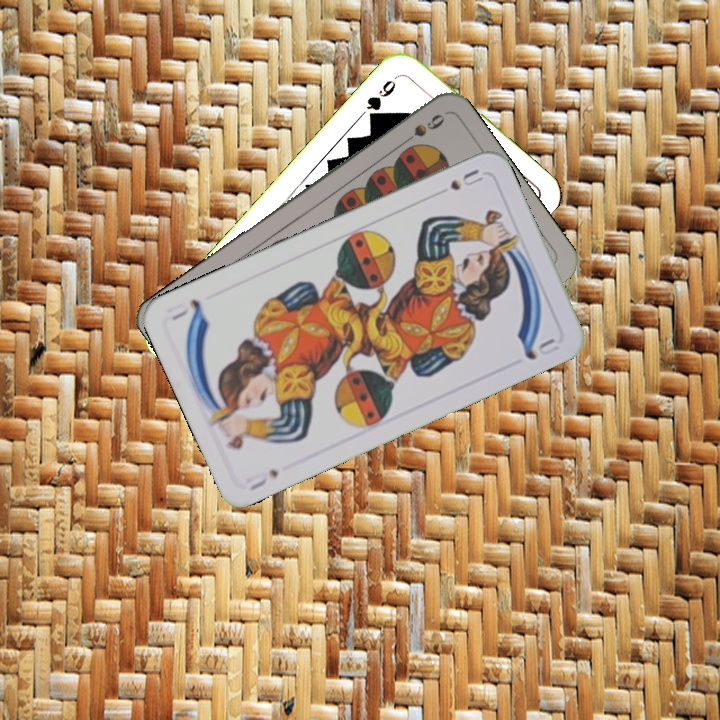G9: (362, 76, 399, 124)
S9: (395, 109, 448, 150)
SU: (446, 165, 486, 193), (241, 465, 281, 493)
